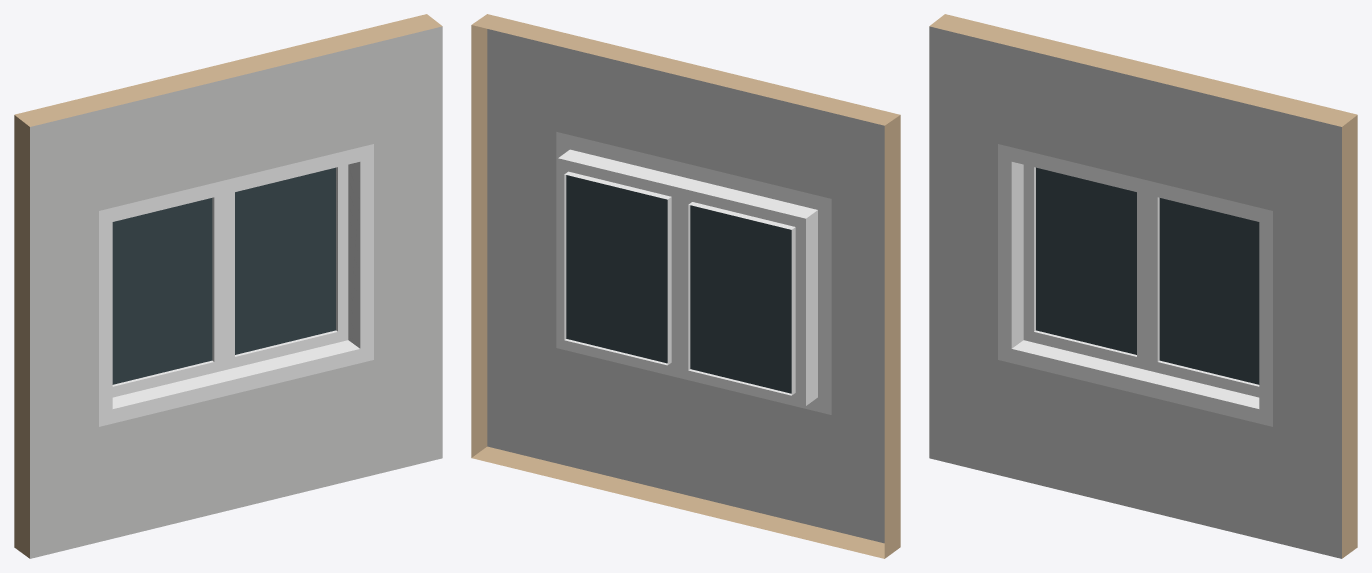
The model's file is buildings_house-wall-window-two-3x3m.fbx.
3 renders of one model, left to right at view 1: azimuth 30°, elevation 25°; view 2: azimuth 150°, elevation 25°; view 3: azimuth 330°, elevation 25°, orthographic.
Visible parts, largest first — view 1: buildings_house_wall_window_two_3x3m; view 2: buildings_house_wall_window_two_3x3m; view 3: buildings_house_wall_window_two_3x3m.
Part boxes in pixels (<box>): buildings_house_wall_window_two_3x3m: <box>14,14,442,558</box>; buildings_house_wall_window_two_3x3m: <box>471,14,900,558</box>; buildings_house_wall_window_two_3x3m: <box>929,14,1357,558</box>.
Size of the model in its own units: 200 by 200 by 13.31.
